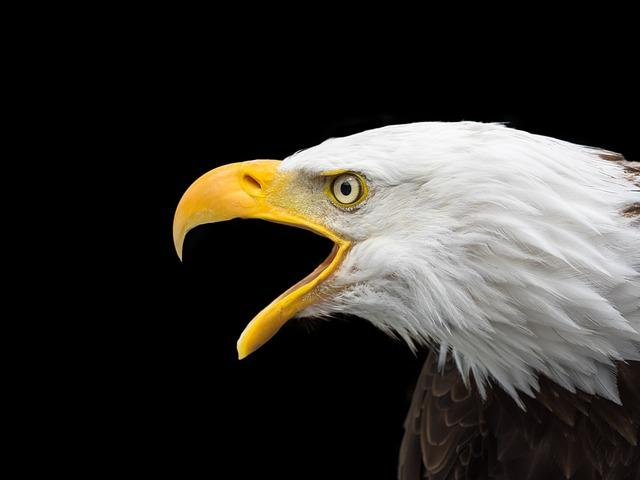bird: (173, 123, 639, 479)
